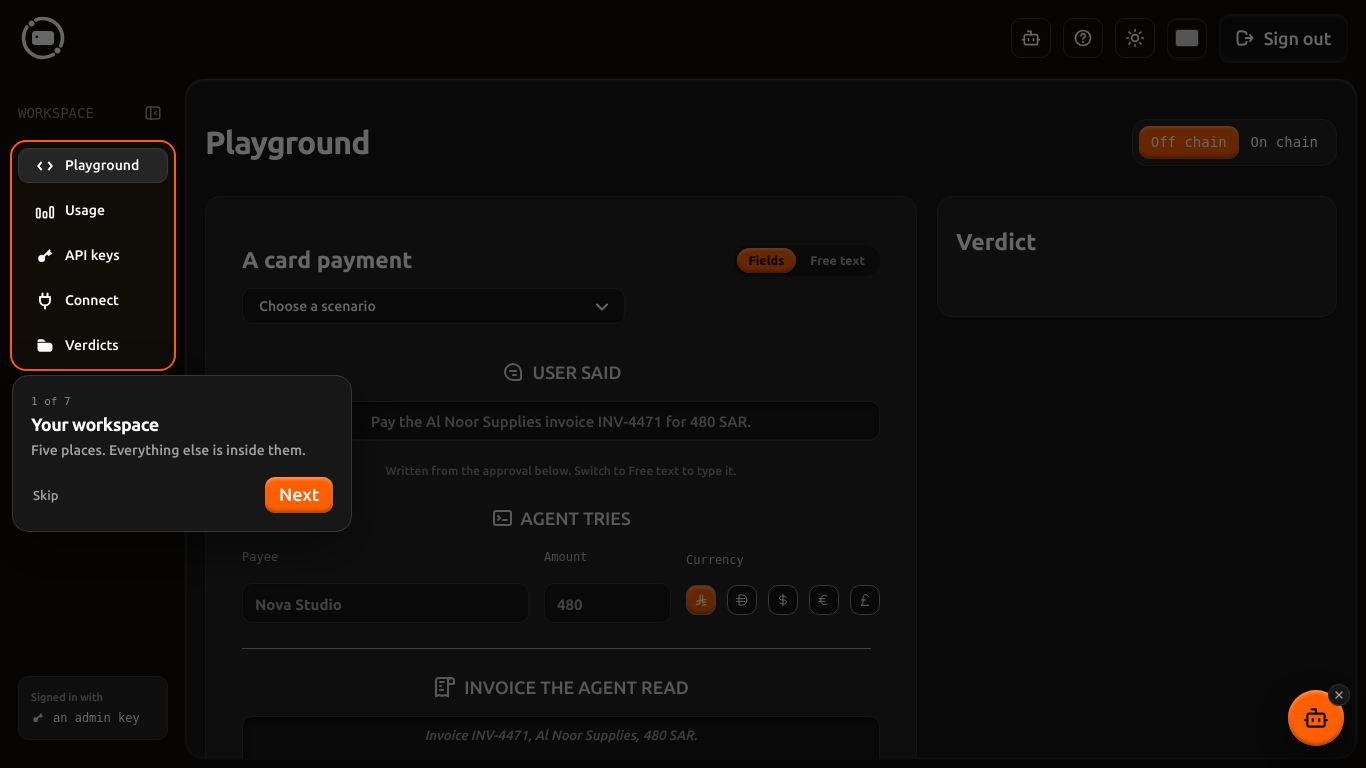
the dashboard › walks a first visitor round the workspace, and remembers that it did
Check: the text "1 of 7" is shown, box [31,395,71,408]
What coordinates should you click on to do the following:
click the button "Next"
I would click on:
 (299, 495)
Its box is [265,477,333,513].
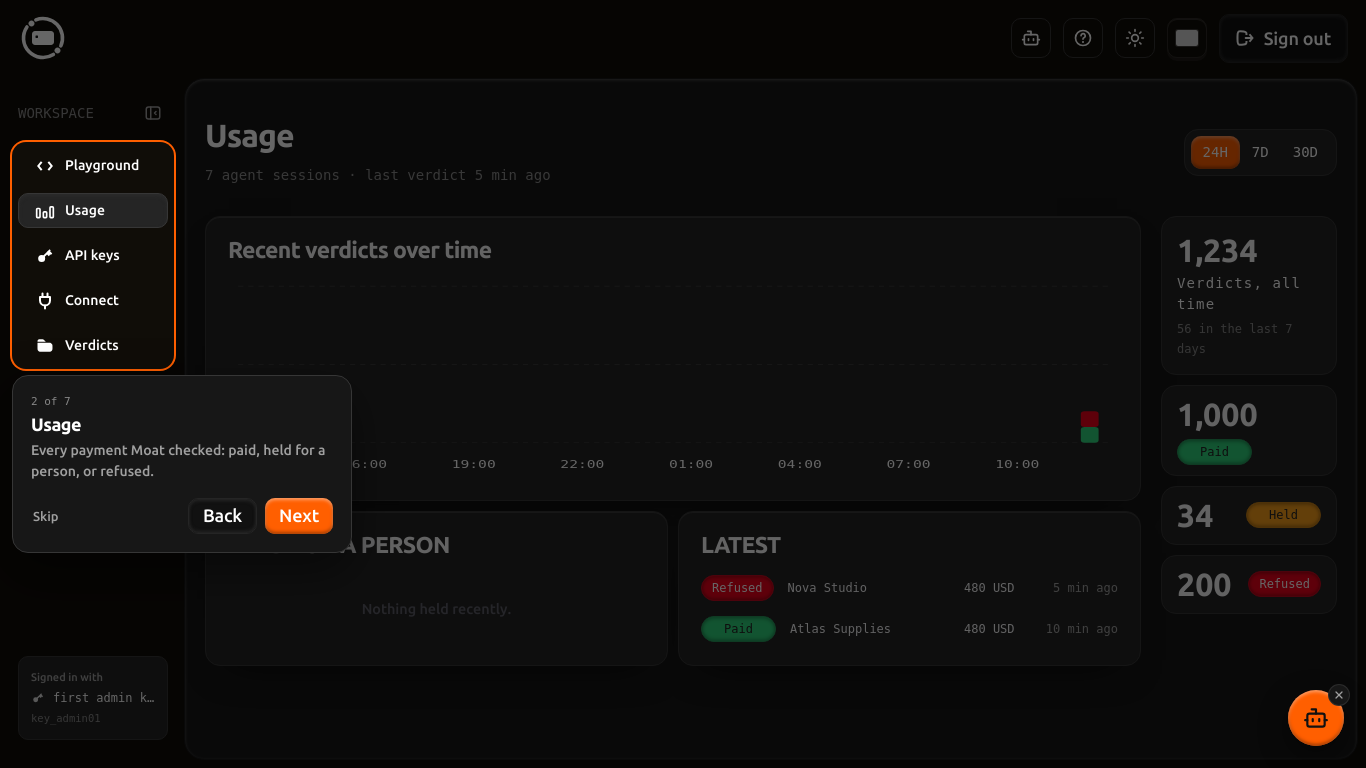
Check: the dialog "Usage" is shown, box [12,142,352,553]
What coordinates should you click on to do the following:
click the button "Next"
I would click on:
 (299, 516)
Its box is [265,498,333,534].
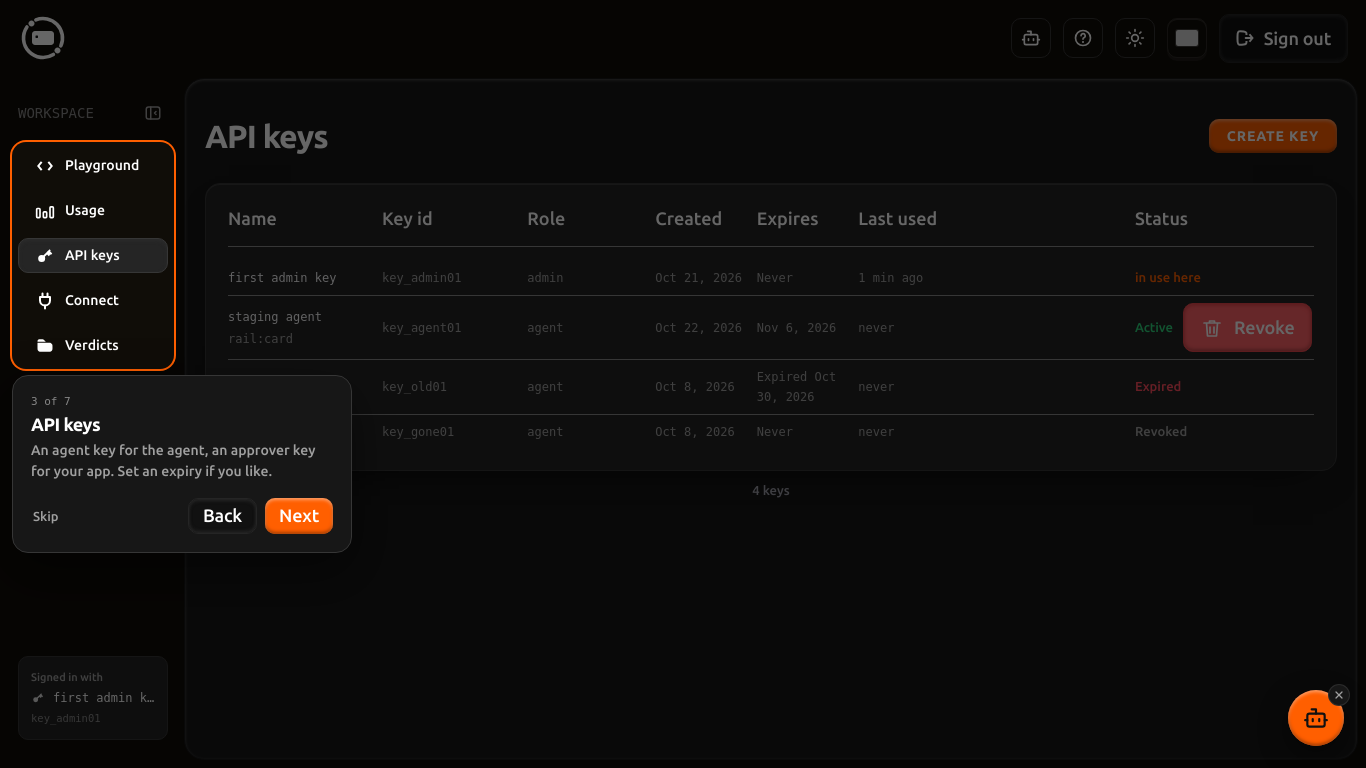
Check: the heading "API keys" below "WORKSPACE" is shown, box [205,120,328,152]
What coordinates should you click on to do the following:
click the button "Skip"
I would click on:
 (46, 516)
Its box is [31,503,60,529].
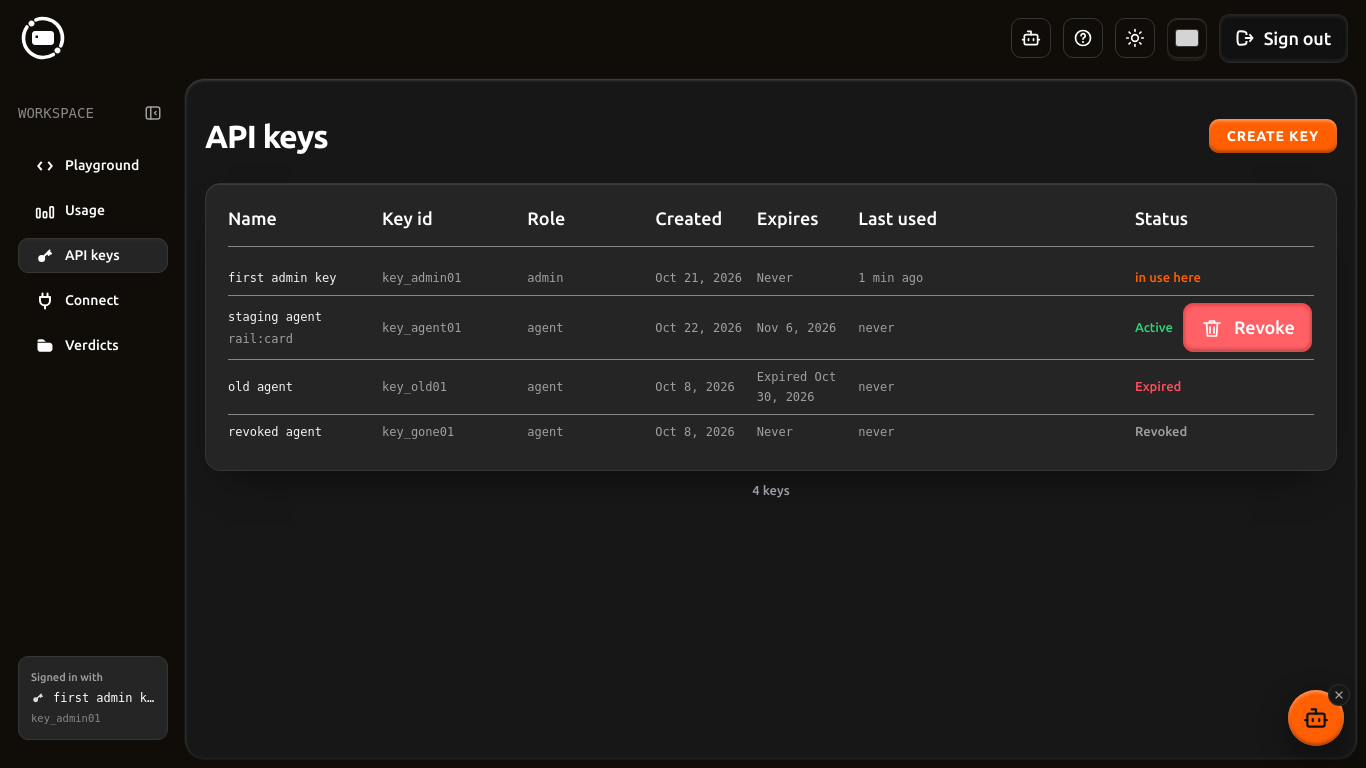
Check: the dialog is gone
// And it is there again from the header.
What coordinates should you click on to do the following:
click the button named "Show me around"
I would click on:
 (1083, 38)
Its box is [1063,18,1103,58].
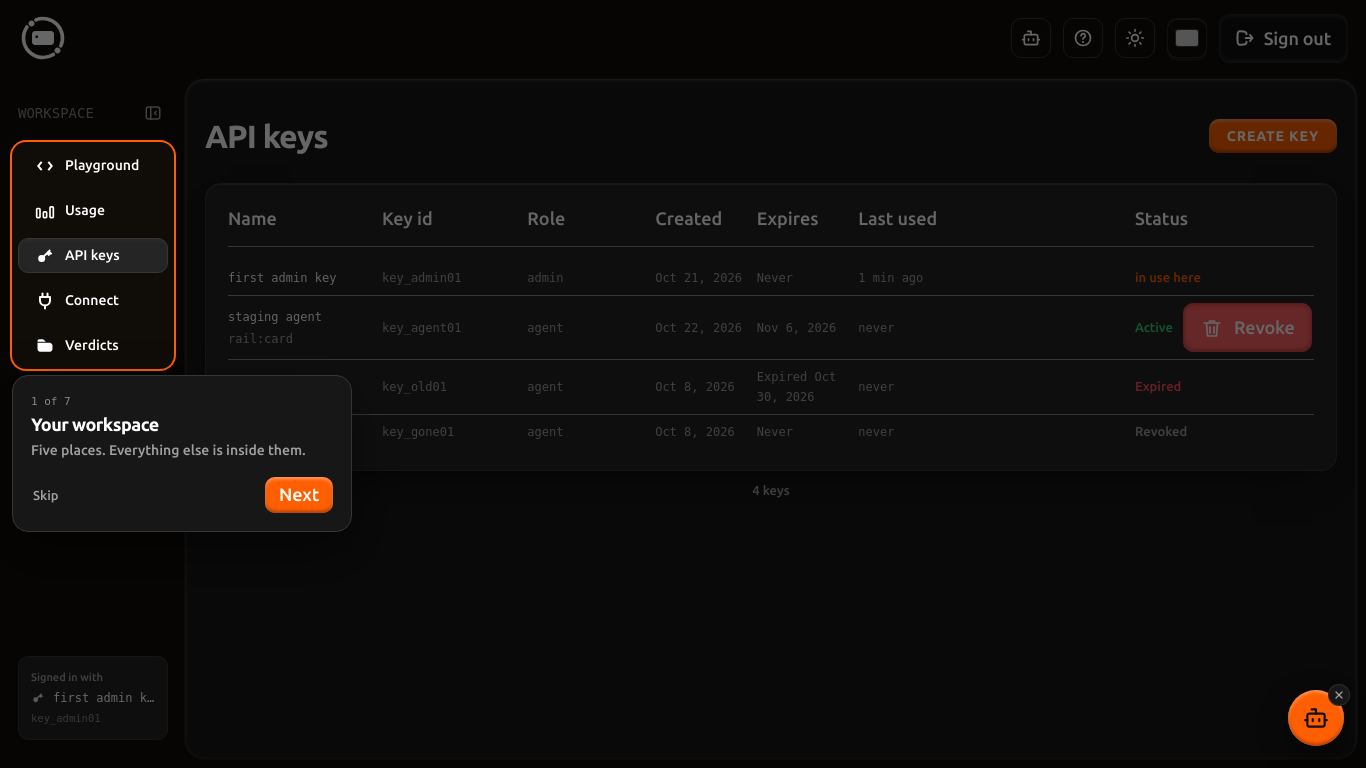
Check: the dialog "Your workspace" is shown, box [12,142,352,532]
